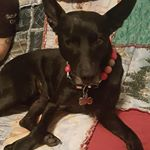puppy: (37, 1, 140, 99)
